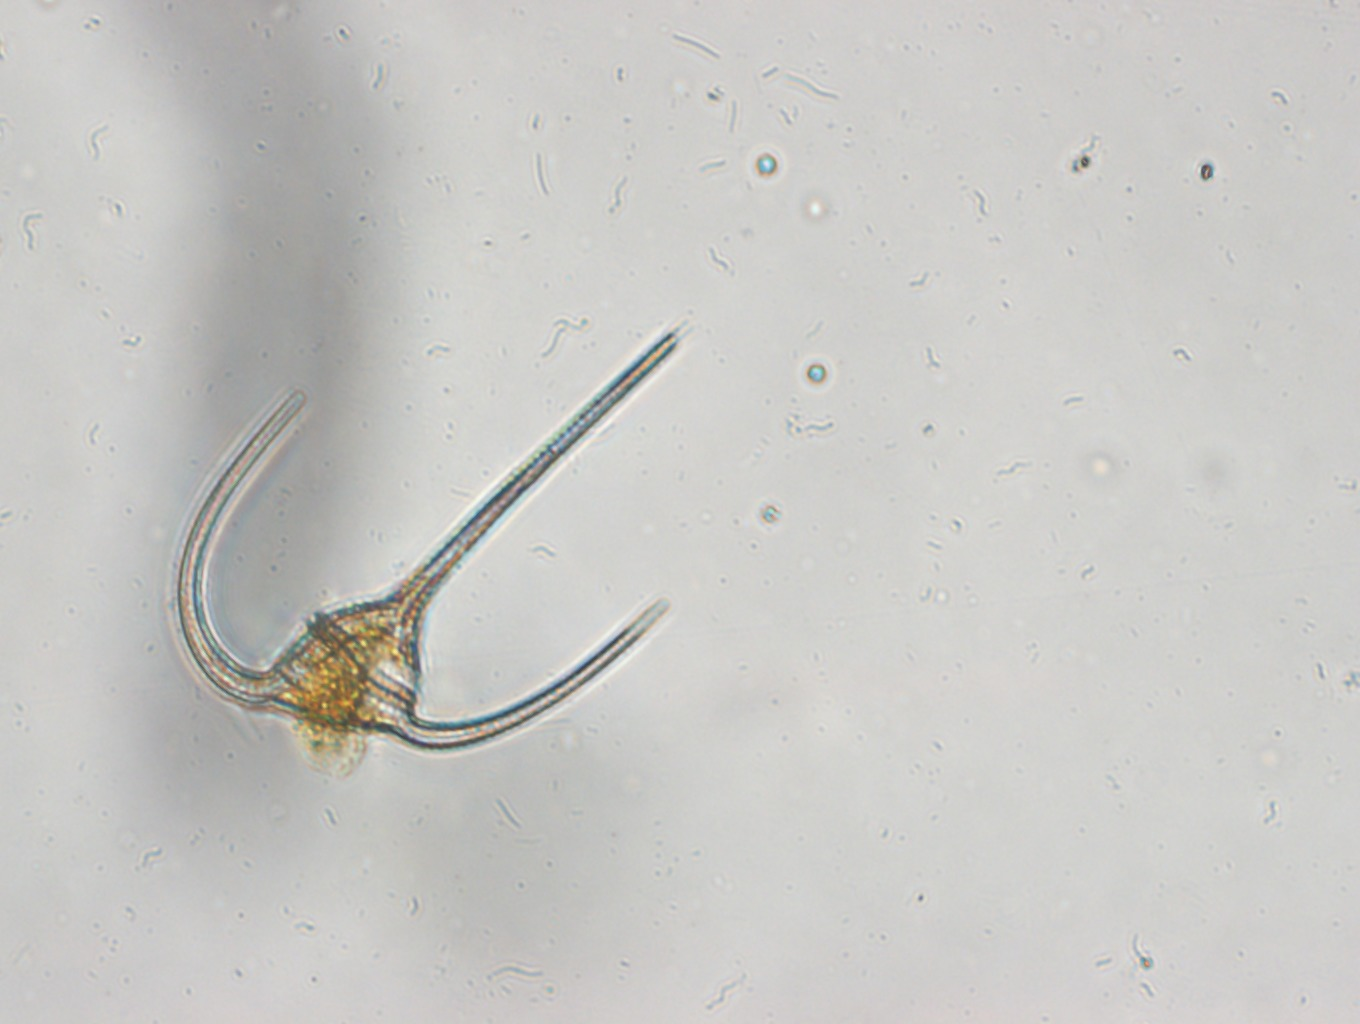ceratium trichoceros: (163, 310, 700, 760)
